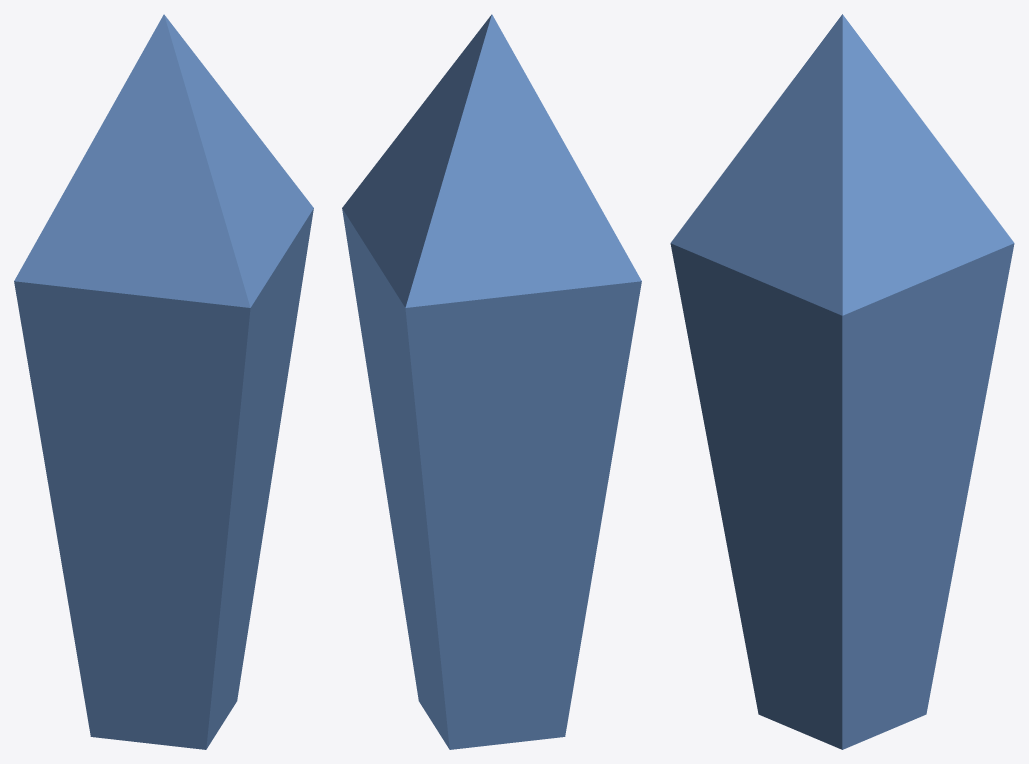
File: crystal_14.fbx
The picture shows the model from 3 angles, left to right: view 1: azimuth 30°, elevation 25°; view 2: azimuth 150°, elevation 25°; view 3: azimuth 270°, elevation 25°; orthographic projection.
Parts seen in each view (by area): view 1: crystal_14; view 2: crystal_14; view 3: crystal_14.
Boxes of the visible parts, x1,y1,x2,y2 form: crystal_14: (14, 14, 313, 749); crystal_14: (342, 14, 641, 749); crystal_14: (670, 14, 1014, 749).
Bounding box in the file's own units: 43.31 × 97.29 × 43.31.
